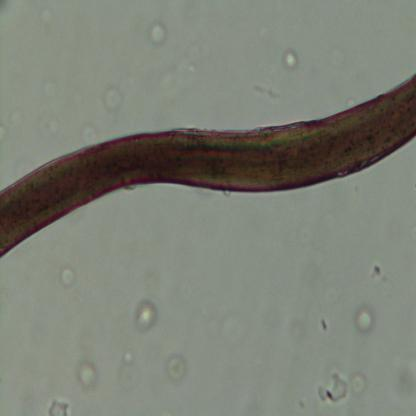Background material: (316, 370, 369, 404), (70, 356, 102, 391), (133, 297, 159, 334), (100, 85, 126, 112), (355, 305, 376, 336), (146, 19, 168, 46), (168, 351, 186, 383), (252, 81, 280, 101), (283, 46, 300, 74), (60, 262, 76, 289), (46, 397, 70, 415), (372, 262, 387, 285), (321, 315, 330, 333)
Microfibre: (0, 72, 416, 257)
